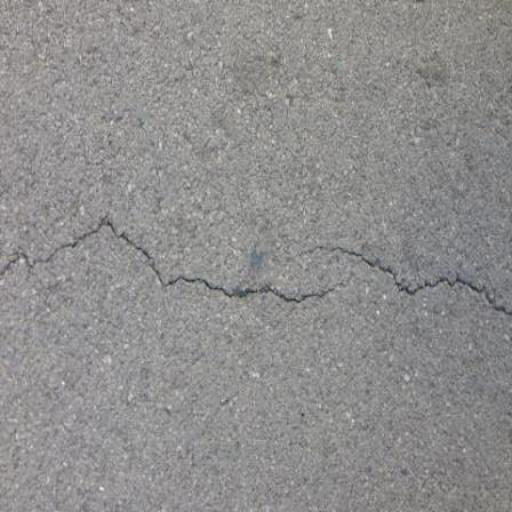spalling: (0, 194, 323, 325), (309, 229, 507, 331)
